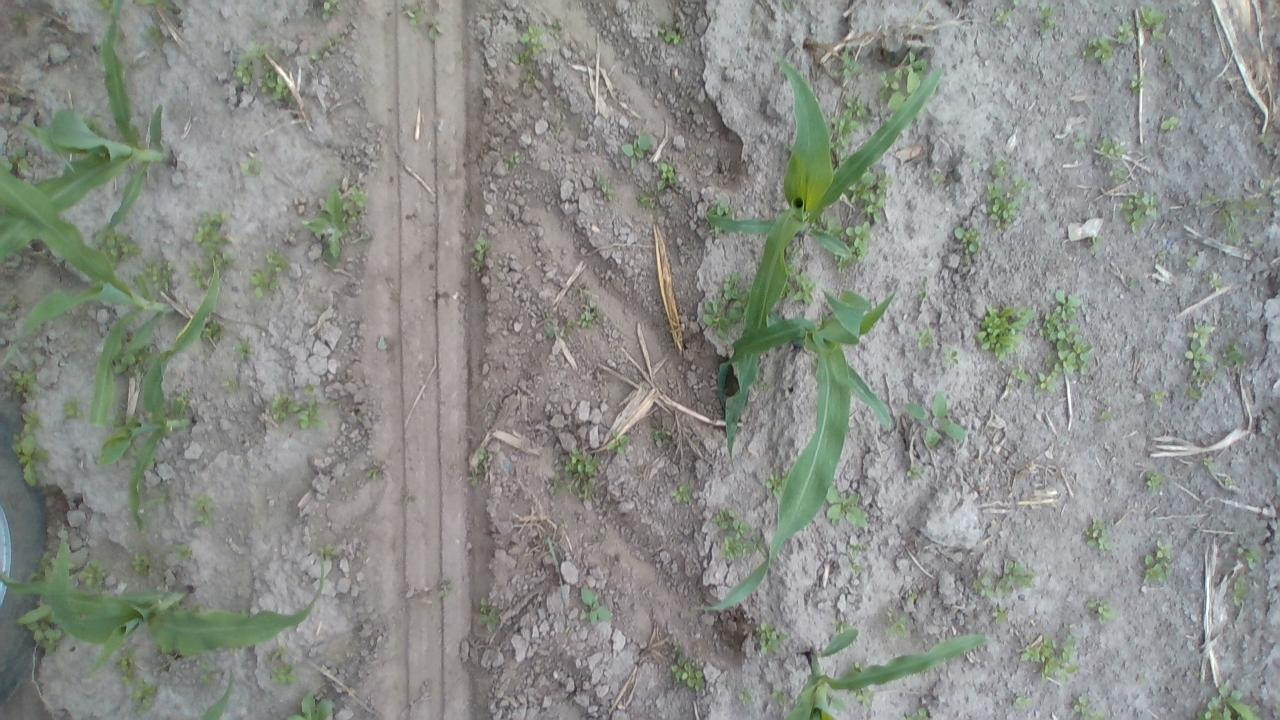Maize: (708, 58, 944, 461), (695, 282, 896, 608), (0, 162, 182, 429), (0, 528, 325, 675), (2, 0, 179, 261), (100, 258, 222, 536), (780, 630, 988, 720), (200, 667, 233, 720), (138, 0, 184, 14)
Weeds: (1034, 289, 1094, 389), (302, 188, 369, 260), (230, 36, 294, 100), (905, 388, 970, 450), (974, 300, 1037, 362), (980, 158, 1033, 231), (510, 17, 563, 84), (1018, 634, 1083, 687), (8, 412, 54, 486), (696, 274, 744, 341), (1183, 314, 1219, 400), (1193, 677, 1264, 720), (547, 449, 602, 504), (1206, 191, 1263, 244), (880, 52, 930, 112), (114, 644, 158, 708), (192, 211, 236, 268), (850, 172, 900, 222), (266, 395, 328, 432), (708, 508, 752, 559), (245, 248, 291, 296), (829, 90, 867, 148), (306, 22, 356, 66), (1120, 188, 1162, 234), (400, 2, 445, 42), (827, 486, 869, 528), (998, 560, 1040, 598), (1081, 516, 1122, 554), (1138, 545, 1176, 583), (672, 656, 711, 693), (284, 695, 336, 720), (1034, 0, 1068, 38), (788, 272, 821, 310), (620, 132, 654, 168), (750, 620, 786, 654), (954, 218, 986, 256), (1078, 30, 1112, 64), (578, 590, 610, 626), (24, 620, 62, 650), (1067, 691, 1106, 720), (105, 232, 138, 266), (8, 369, 43, 399), (192, 494, 218, 534), (844, 222, 875, 255), (1138, 5, 1168, 39), (1084, 594, 1115, 626), (838, 49, 866, 84), (269, 646, 295, 682), (1230, 540, 1264, 567), (144, 261, 176, 288), (646, 412, 670, 448), (304, 0, 346, 20), (1099, 138, 1131, 164), (476, 598, 502, 630), (1114, 22, 1140, 52), (1232, 570, 1256, 602), (652, 161, 679, 189), (1224, 341, 1248, 371), (763, 466, 785, 498), (594, 170, 618, 199), (576, 306, 600, 334), (883, 616, 911, 640), (76, 565, 106, 586), (128, 554, 152, 580), (660, 18, 682, 44), (502, 150, 524, 176), (473, 236, 488, 274), (196, 662, 224, 682), (236, 336, 258, 361), (990, 606, 1015, 628), (969, 573, 990, 598), (764, 684, 790, 704), (1099, 396, 1120, 420), (844, 556, 869, 576), (991, 4, 1013, 26), (1005, 364, 1029, 384), (61, 395, 79, 420), (604, 435, 629, 453), (672, 483, 693, 504), (436, 575, 456, 596), (91, 0, 121, 14), (845, 538, 871, 554), (835, 614, 852, 638), (1108, 162, 1128, 182), (916, 278, 932, 303), (940, 346, 960, 365), (711, 197, 731, 216), (1157, 50, 1173, 72), (930, 168, 949, 186), (176, 544, 197, 560), (1206, 271, 1225, 288), (242, 162, 262, 178), (920, 330, 936, 350), (636, 194, 660, 207), (220, 376, 238, 393), (1152, 389, 1170, 406), (1142, 469, 1160, 486), (1015, 696, 1036, 710), (1130, 73, 1146, 91), (910, 707, 932, 720), (477, 450, 497, 464), (1186, 252, 1200, 272), (850, 690, 872, 702), (1075, 130, 1088, 150), (469, 467, 483, 485), (906, 464, 924, 478), (1161, 118, 1180, 131), (367, 462, 382, 478), (1154, 248, 1170, 262), (321, 546, 336, 560), (902, 589, 921, 600), (1090, 238, 1100, 254), (304, 386, 318, 396), (738, 690, 748, 704), (1202, 454, 1213, 466), (1224, 475, 1234, 488), (1014, 0, 1030, 8)
